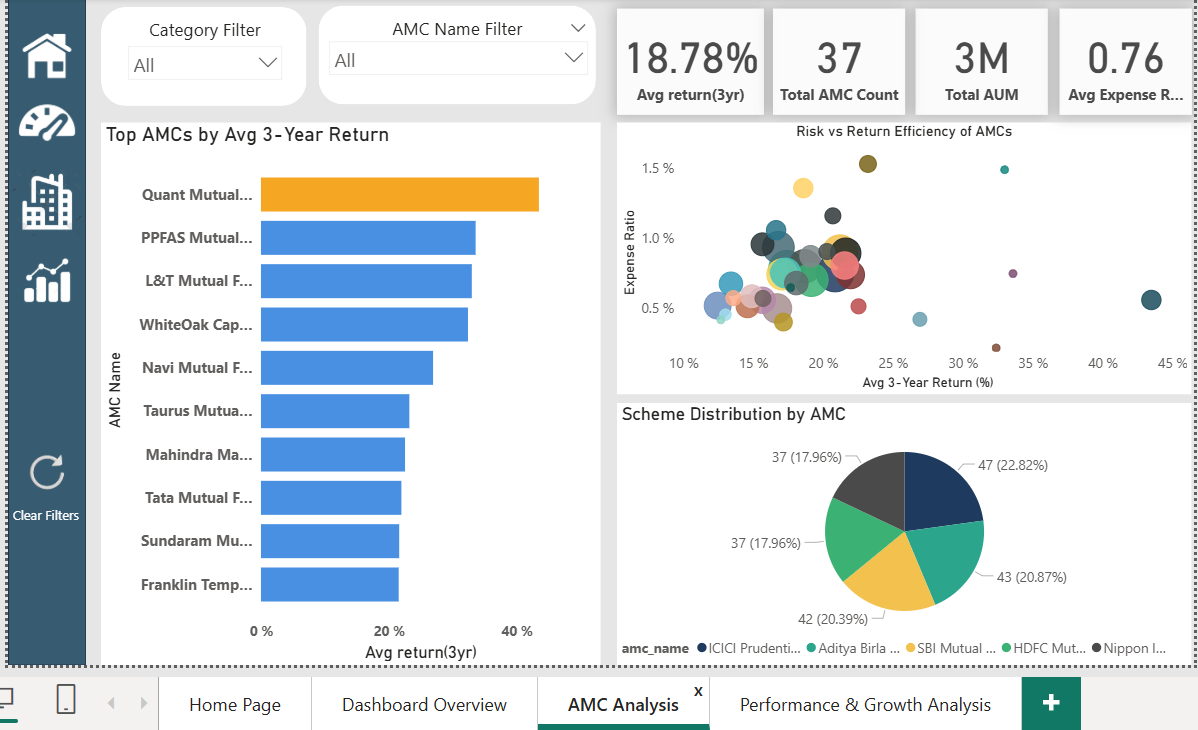

This screenshot's page, from the dashboard's own definition file:
{"tool":"powerbi","page":{"name":"AMC  Analysis ","canvas":[1280,720],"ordinal":2},"visuals":[{"type":"clusteredBarChart","title":"Top AMCs by Avg 3-Year Return","fields":{"Y":["Sheet1.Avg return(3yr)"],"Category":["Sheet1.amc_name"]},"box":[100.4,134.4,539.2,586.2],"z":0},{"type":"pieChart","title":"Scheme Distribution by AMC","fields":{"Category":["Sheet1.amc_name"],"Y":["Sheet1.Conut of Scheme"]},"box":[657.4,437.2,620.2,283.4],"z":1000},{"type":"shape","box":[0,0,84.2,720.6],"z":2000},{"type":"card","fields":{"Values":["Sheet1.Total AUM"]},"box":[979.6,11.3,142.5,115],"z":3000},{"type":"card","fields":{"Values":["Sheet1.Avg return(3yr)"]},"box":[657.4,11.3,158.7,115],"z":4000},{"type":"card","fields":{"Values":["Sheet1.Total AMC Count"]},"box":[825.8,11.3,142.5,115],"z":6000},{"type":"scatterChart","title":"Risk vs Return Efficiency of AMCs","fields":{"X":["Avg(Sheet1.returns_3yr)"],"Y":["Sheet1.Avg Expense Ration"],"Size":["Sheet1.Conut of Scheme"],"Series":["Sheet1.amc_name"]},"box":[657.4,134.4,620.2,293.1],"z":7000},{"type":"shape","box":[335.2,8.1,299.6,106.9],"z":8000},{"type":"textbox","box":[409.7,14.6,170,40.5],"z":9000},{"type":"slicer","fields":{"Values":["Sheet1.amc_name"]},"box":[336.8,24.3,299.6,69.6],"z":10000},{"type":"shape","box":[100.4,9.7,221.8,106.9],"z":11000},{"type":"textbox","box":[147.3,16.2,131.2,51.8],"z":12000},{"type":"slicer","fields":{"Values":["Sheet1.category"]},"box":[119.8,42.1,186.2,55.1],"z":13000},{"type":"image","box":[6.5,30.8,71.2,63.1],"z":14000},{"type":"image","box":[6.5,98.8,71.2,71.2],"z":15000},{"type":"image","box":[0,179.7,84.2,82.6],"z":16000},{"type":"image","box":[0,262.3,84.2,84.2],"z":17000},{"type":"image","box":[9.7,479.3,63.1,63.1],"z":18000},{"type":"textbox","box":[0,542.4,84.2,37.2],"z":19000},{"type":"card","fields":{"Values":["Sheet1.Avg Expense Ration"]},"box":[1135.1,11.3,142.5,115],"z":19001}]}

Visuals, with their boxes on the page's 1280x720 design canvas (x1, y1, x2, y2). These are canvas units, not pixel positions in the 1198x730 screenshot, which may show the page scaled, cropped or inside an application window:
"Top AMCs by Avg 3-Year Return" clusteredBarChart: pyautogui.locateOnScreen(100, 134, 640, 721)
"Scheme Distribution by AMC" pieChart: pyautogui.locateOnScreen(657, 437, 1278, 721)
shape: pyautogui.locateOnScreen(0, 0, 84, 721)
card - Sheet1.Total AUM: pyautogui.locateOnScreen(980, 11, 1122, 126)
card - Sheet1.Avg return(3yr): pyautogui.locateOnScreen(657, 11, 816, 126)
card - Sheet1.Total AMC Count: pyautogui.locateOnScreen(826, 11, 968, 126)
"Risk vs Return Efficiency of AMCs" scatterChart: pyautogui.locateOnScreen(657, 134, 1278, 428)
shape: pyautogui.locateOnScreen(335, 8, 635, 115)
textbox: pyautogui.locateOnScreen(410, 15, 580, 55)
slicer - Sheet1.amc_name: pyautogui.locateOnScreen(337, 24, 636, 94)
shape: pyautogui.locateOnScreen(100, 10, 322, 117)
textbox: pyautogui.locateOnScreen(147, 16, 278, 68)
slicer - Sheet1.category: pyautogui.locateOnScreen(120, 42, 306, 97)
image: pyautogui.locateOnScreen(6, 31, 78, 94)
image: pyautogui.locateOnScreen(6, 99, 78, 170)
image: pyautogui.locateOnScreen(0, 180, 84, 262)
image: pyautogui.locateOnScreen(0, 262, 84, 346)
image: pyautogui.locateOnScreen(10, 479, 73, 542)
textbox: pyautogui.locateOnScreen(0, 542, 84, 580)
card - Sheet1.Avg Expense Ration: pyautogui.locateOnScreen(1135, 11, 1278, 126)
